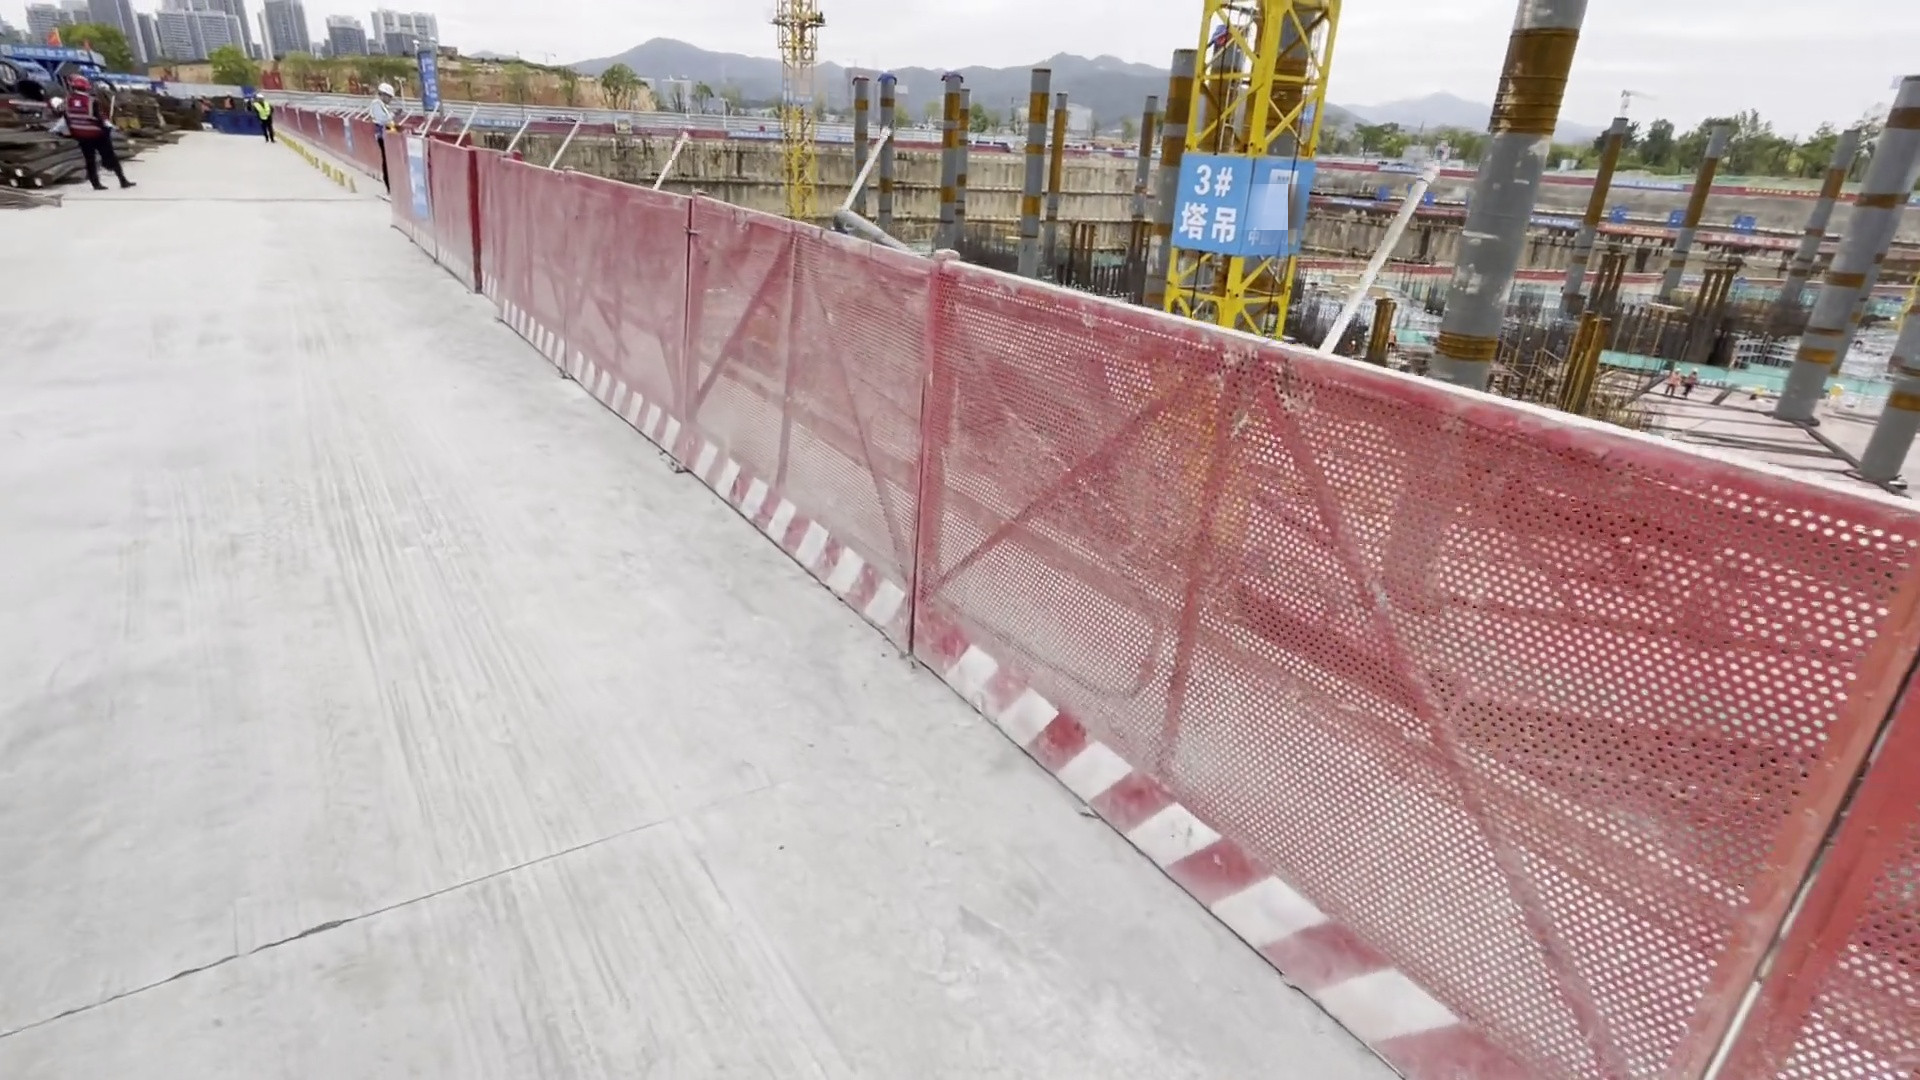helmet: (71, 75, 90, 90), (374, 83, 395, 94)
person: (66, 78, 133, 197), (366, 82, 397, 199), (250, 90, 283, 148)
vest: (63, 94, 101, 135), (253, 103, 271, 124)
